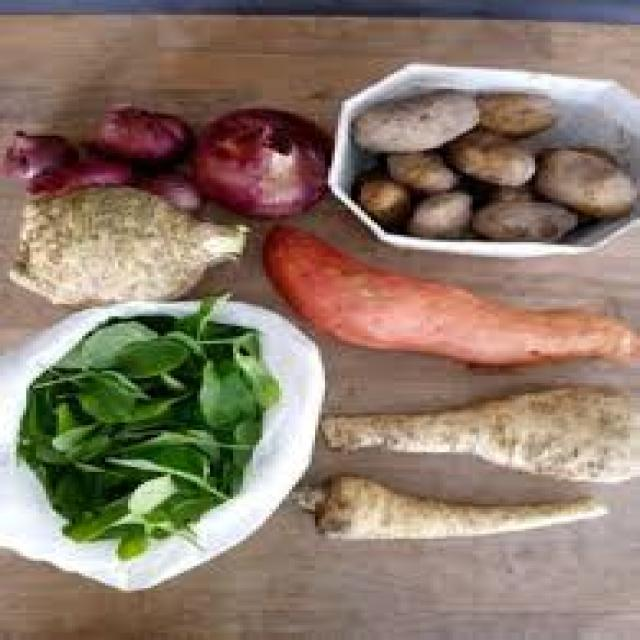organic waste: (13, 299, 276, 556), (259, 217, 637, 366), (318, 383, 637, 479), (7, 180, 246, 296), (292, 472, 601, 539), (190, 109, 328, 215), (345, 84, 479, 151), (538, 143, 634, 215), (82, 106, 187, 158), (469, 188, 578, 237), (440, 128, 528, 180), (52, 366, 151, 410), (180, 361, 243, 430), (72, 316, 158, 364), (23, 151, 125, 190), (125, 472, 206, 521), (132, 425, 236, 460), (85, 460, 164, 504), (476, 86, 558, 128), (118, 390, 207, 428), (233, 343, 282, 412), (50, 393, 99, 460), (387, 148, 456, 195), (46, 459, 95, 522), (131, 160, 194, 208), (121, 338, 190, 381), (354, 170, 410, 222), (7, 129, 72, 168), (69, 504, 131, 544), (20, 393, 52, 464), (46, 423, 112, 452), (174, 294, 223, 331), (154, 484, 203, 514), (190, 324, 256, 346), (482, 183, 528, 198), (128, 521, 151, 551)
